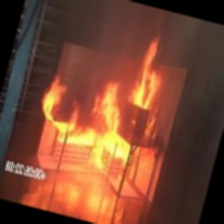fire: (24, 0, 204, 213)
